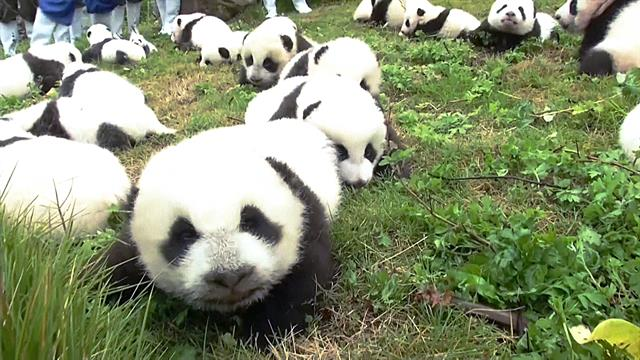panda: (107, 112, 368, 342)
